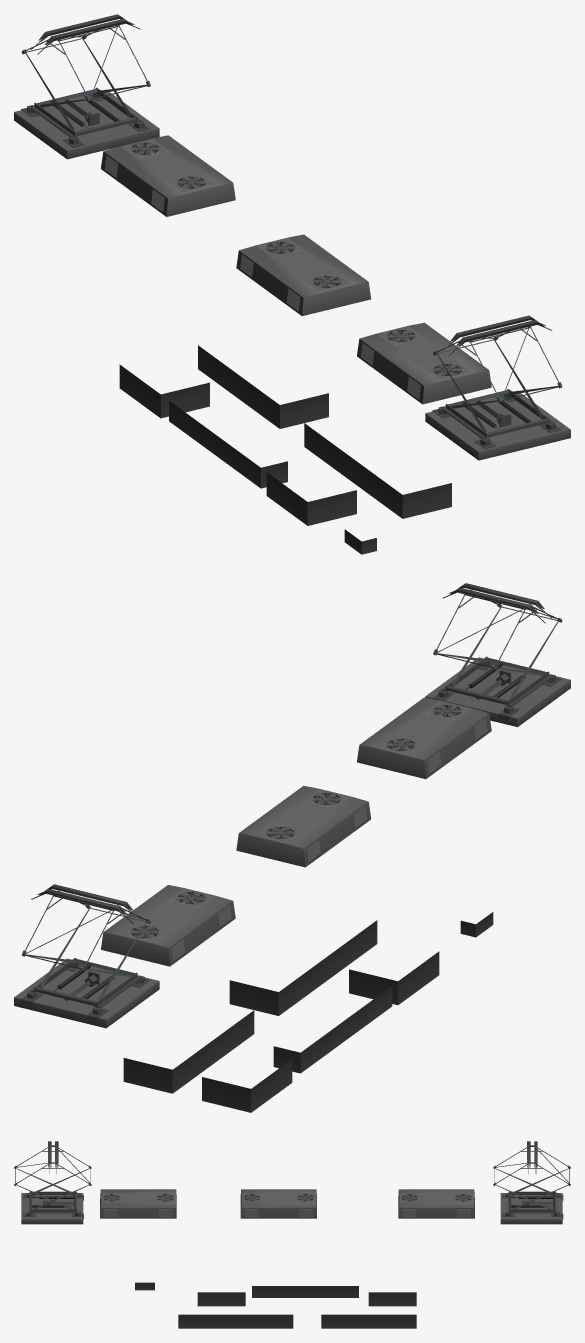
Rendered from H7001_PANTA00.glb.
3 renders of one model, top to bottom at view 1: azimuth 30°, elevation 25°; view 2: azimuth 150°, elevation 25°; view 3: azimuth 270°, elevation 25°, orthographic. The views are drawn at different scales.
Visible parts, largest first — view 1: PANTA; view 2: PANTA; view 3: PANTA.
Part boxes in pixels (x1,y1,x2,y2): PANTA: (14,14,570,554); PANTA: (14,583,570,1112); PANTA: (14,1141,570,1328).
Bounding box in the file's own units: 5.53 × 11.32 × 35.91.
3 materials, 3 textured.
